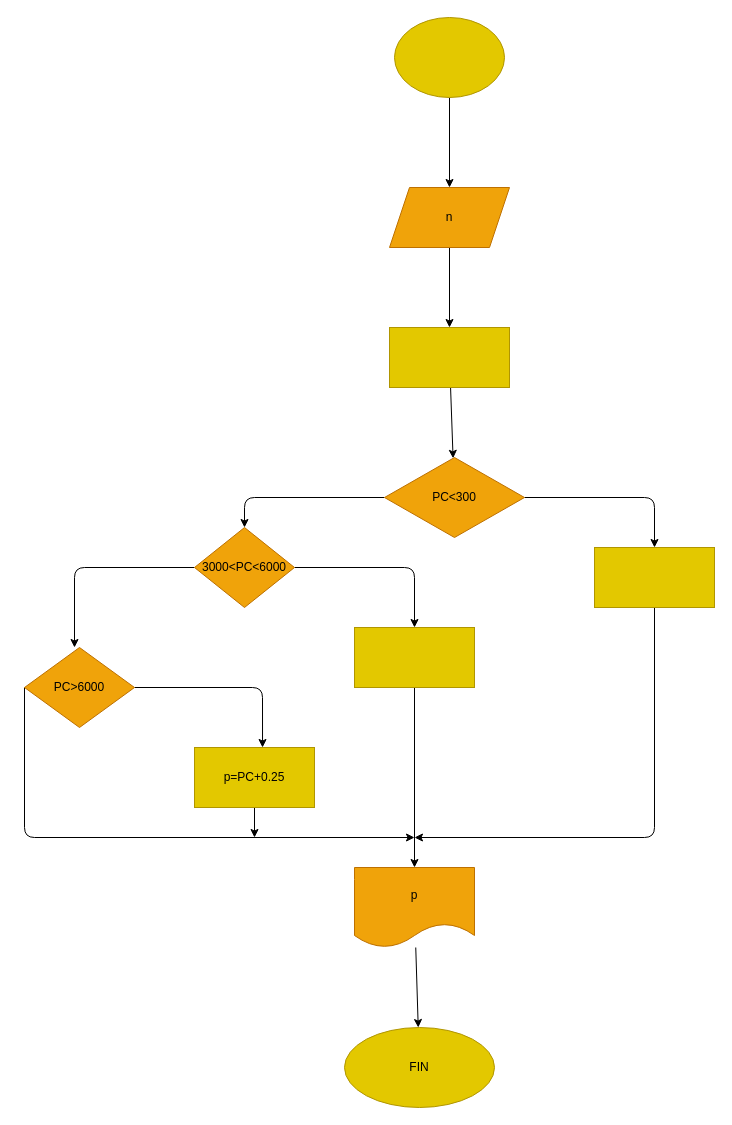
The diagram is 732 pixels wide and 1125 high, and some of its shapes have lost their labels. The centre of each missing label's shape, as x and y in pixels:
"INICIO" belongs at point (449, 57).
"p=PC+0.15" belongs at point (654, 577).
"p=PC+500" belongs at point (414, 657).
"p=PC+G" belongs at point (449, 357).
